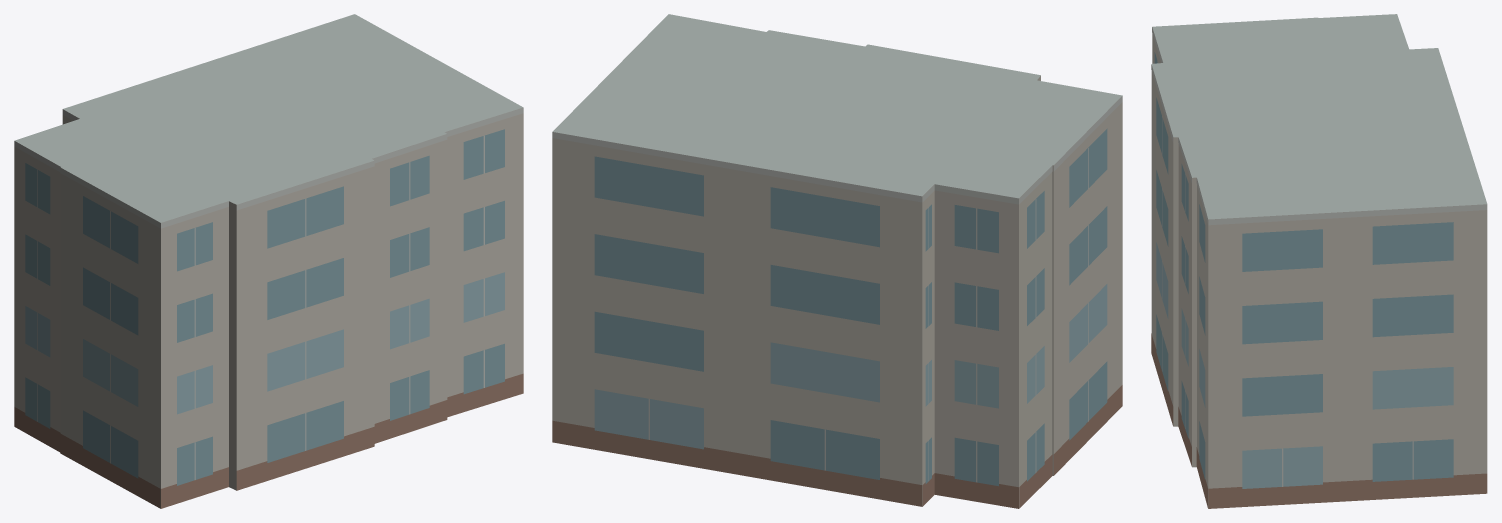
The model's file is survey-upis-32943064.glb.
The picture shows the model from 3 angles, left to right: view 1: azimuth 30°, elevation 25°; view 2: azimuth 150°, elevation 25°; view 3: azimuth 270°, elevation 25°; orthographic projection. The views are drawn at different scales.
Visible parts, largest first — view 1: survey-upis-32943064.tmp; view 2: survey-upis-32943064.tmp; view 3: survey-upis-32943064.tmp.
Boxes of the visible parts, x1,y1,x2,y2 form: survey-upis-32943064.tmp: [14, 14, 523, 508]; survey-upis-32943064.tmp: [552, 14, 1122, 508]; survey-upis-32943064.tmp: [1151, 14, 1487, 508].
Size of the model in its own units: 18.59 by 12.2 by 12.85.
